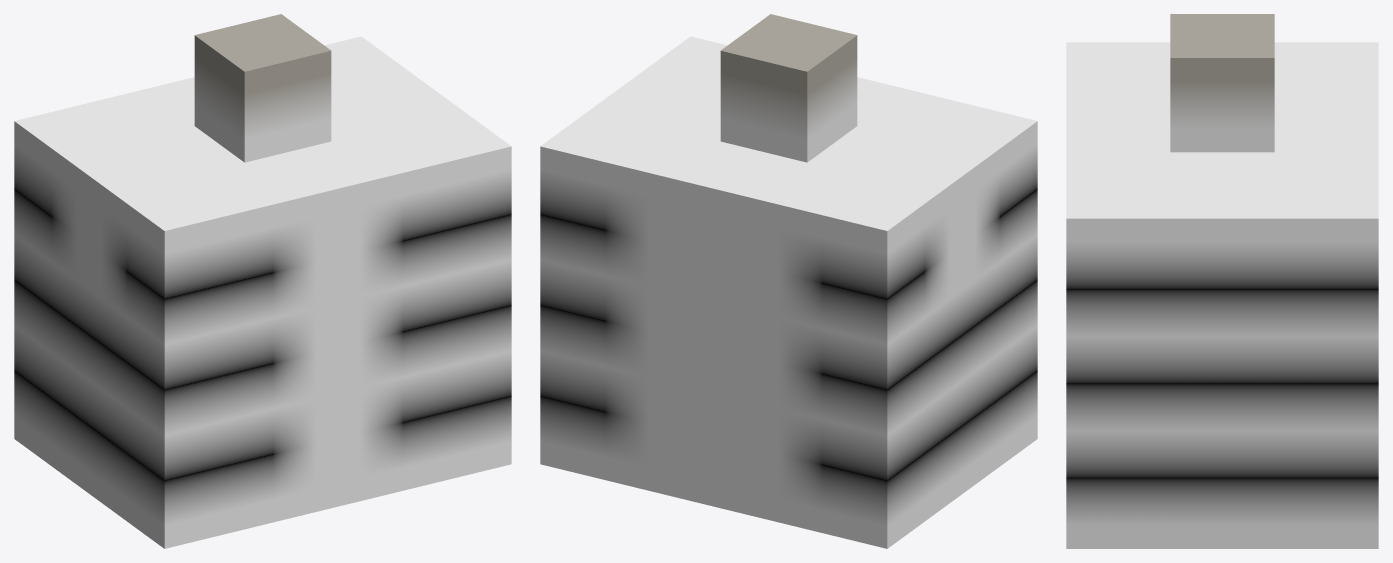
The model's file is skeleton_torso.fbx.
3 views of the same model, side by side, from view 1: azimuth 30°, elevation 25°; view 2: azimuth 150°, elevation 25°; view 3: azimuth 270°, elevation 25° (orthographic). The views are drawn at different scales.
Parts seen in each view (by area): view 1: skeleton_torso; view 2: skeleton_torso; view 3: skeleton_torso.
Boxes of the visible parts, box(x1,y1,x2,y2) form: skeleton_torso: box(14, 14, 511, 548); skeleton_torso: box(540, 14, 1037, 548); skeleton_torso: box(1066, 14, 1378, 548).
Bounding box in the file's own units: 8 × 9 × 6.
Materials: 1 (1 with a texture image).
